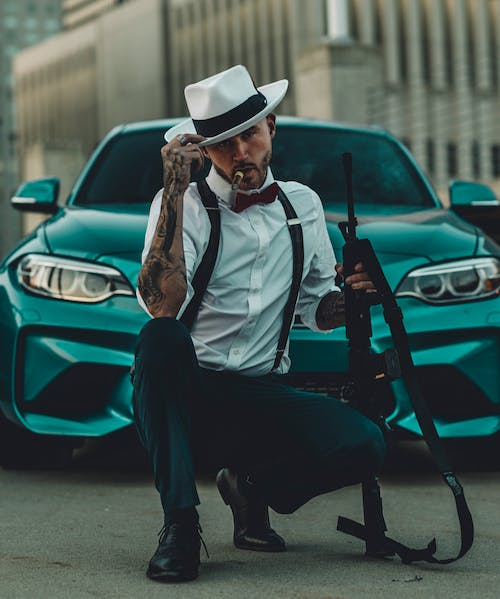gun: (337, 149, 402, 561)
